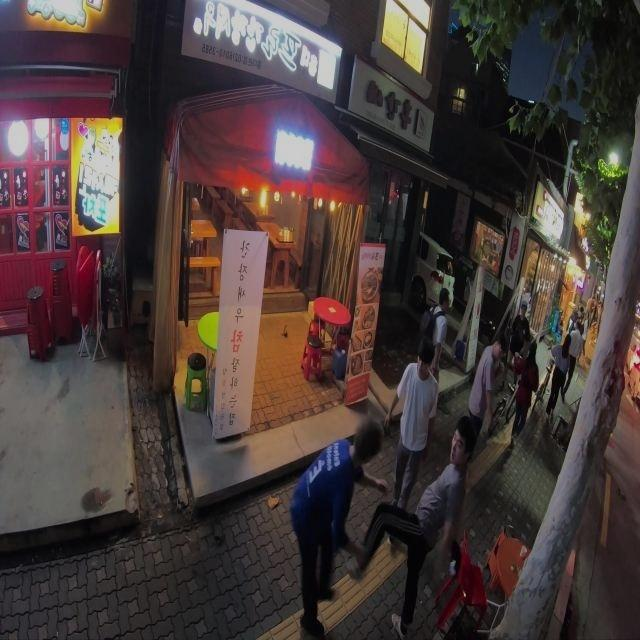fight: (286, 409, 475, 639)
non-fight: (386, 337, 437, 515), (507, 320, 538, 449)
